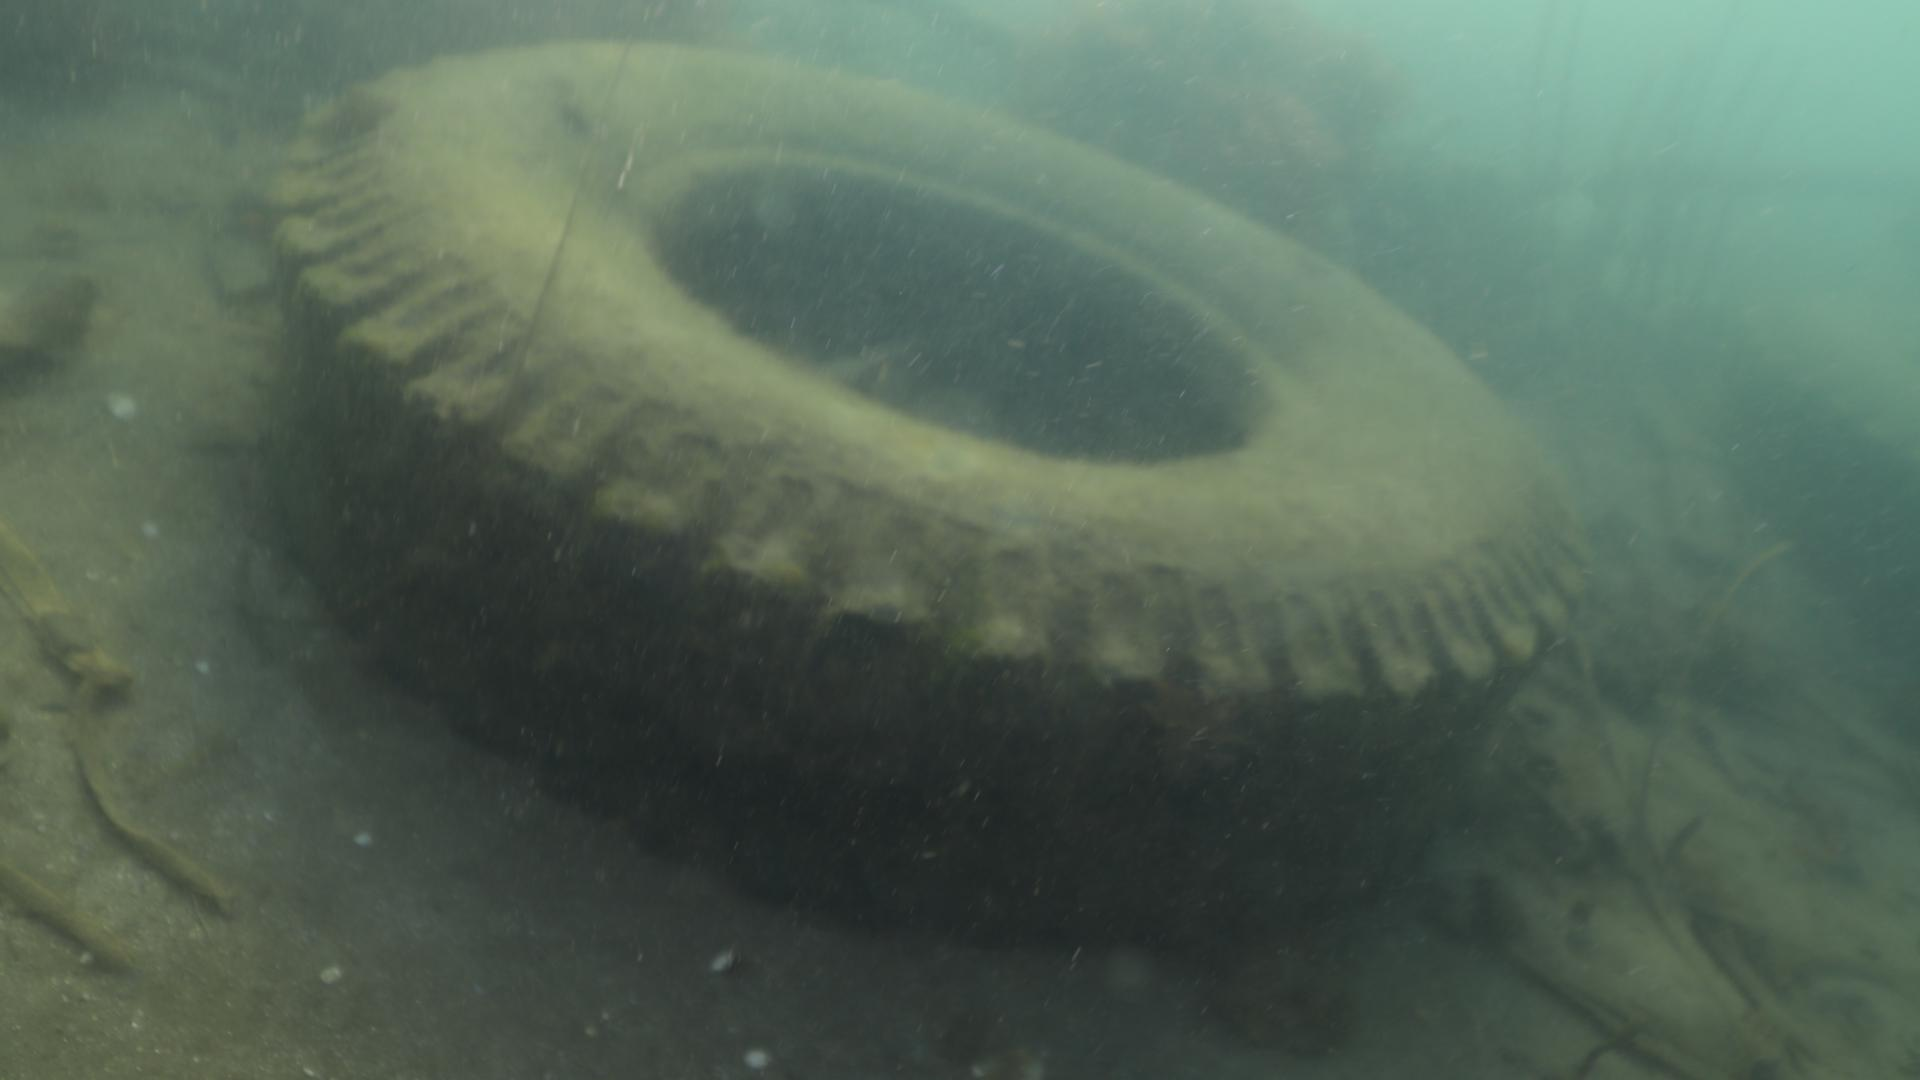tire: (258, 36, 1590, 936)
